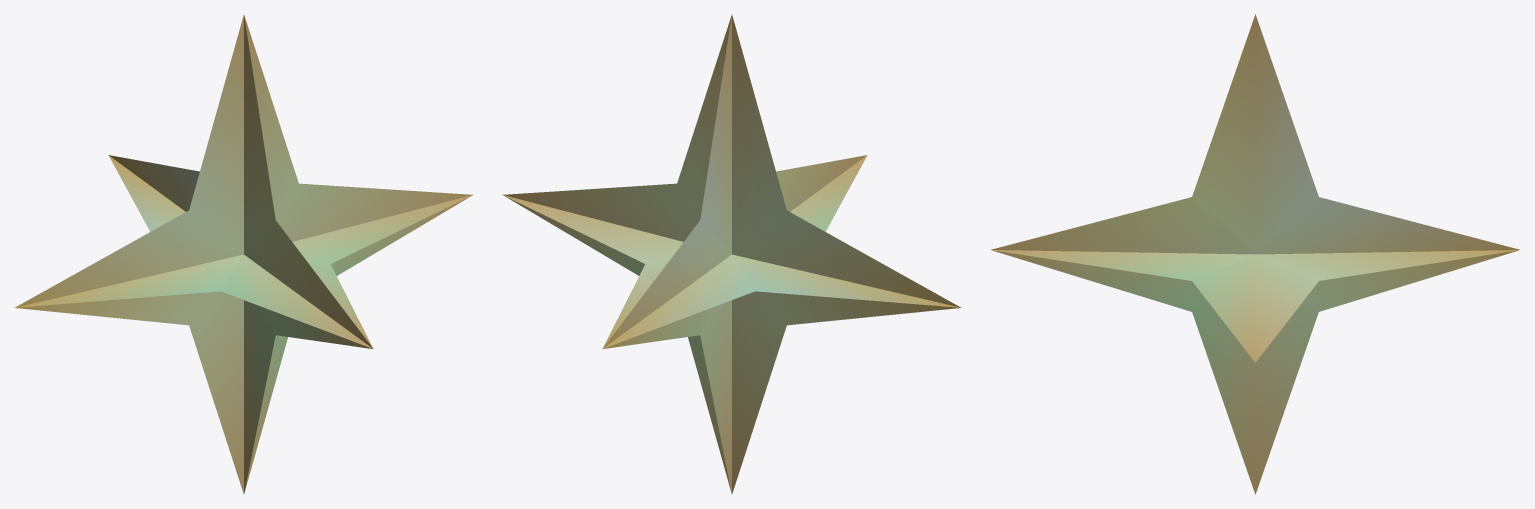
File: space-stars-star_v2.glb
The picture shows the model from 3 angles, left to right: view 1: azimuth 30°, elevation 25°; view 2: azimuth 150°, elevation 25°; view 3: azimuth 270°, elevation 25°; orthographic projection.
Parts seen in each view (by area): view 1: Star_v2; view 2: Star_v2; view 3: Star_v2.
Part boxes in pixels (left/top/right/bottom): Star_v2: left=14, top=15, right=473, bottom=493; Star_v2: left=502, top=15, right=961, bottom=493; Star_v2: left=991, top=14, right=1519, bottom=494.
Bounding box in the file's own units: 0.4998 × 0.5 × 0.5.
